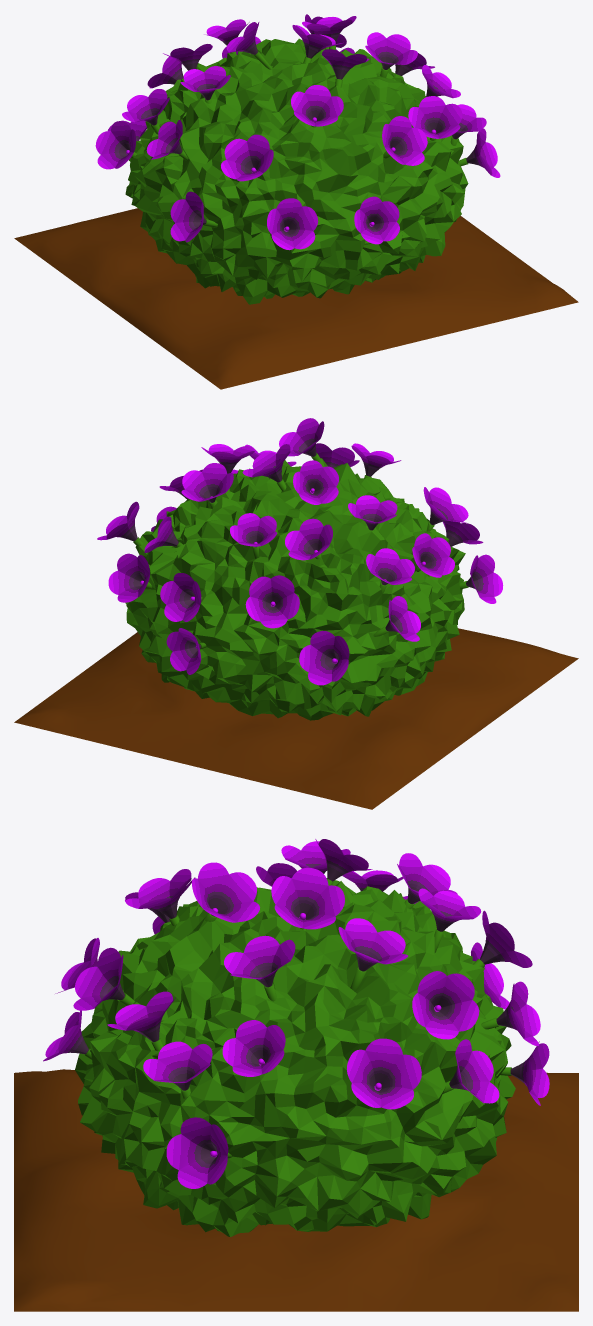
File: petunia-p3-bloom.glb
3 renders of one model, top to bottom at view 1: azimuth 30°, elevation 25°; view 2: azimuth 150°, elevation 25°; view 3: azimuth 270°, elevation 25°, orthographic. The views are drawn at different scales.
Parts seen in each view (by area): view 1: 3_nft_bloom; view 2: 3_nft_bloom; view 3: 3_nft_bloom.
Boxes of the visible parts, x1=… form: 3_nft_bloom: x1=14, y1=14, x2=578, y2=389; 3_nft_bloom: x1=14, y1=418, x2=578, y2=809; 3_nft_bloom: x1=14, y1=839, x2=578, y2=1311.
Bounding box in the file's own units: 0.7 × 0.4576 × 0.7.
3 materials, 1 textured.
